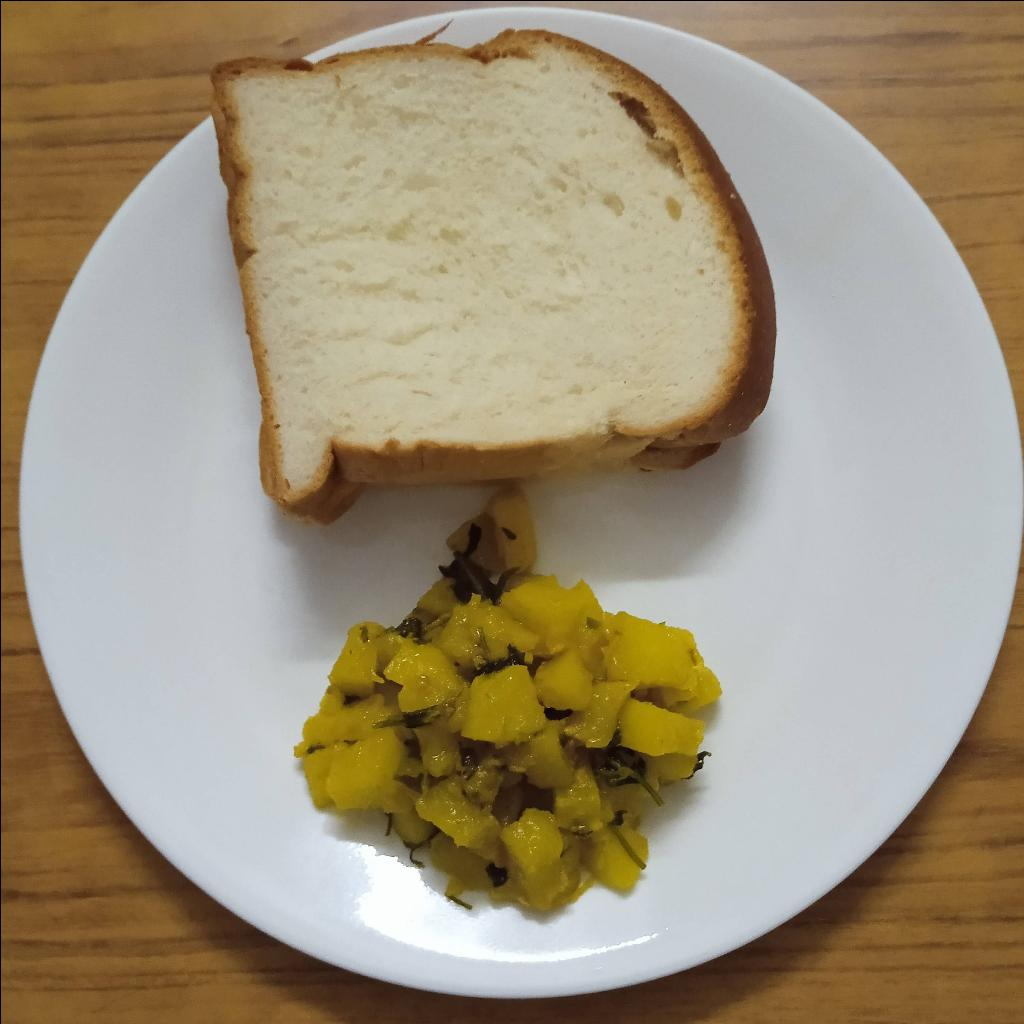bread: (212, 28, 774, 517)
kumra-vaji: (293, 493, 716, 913)
